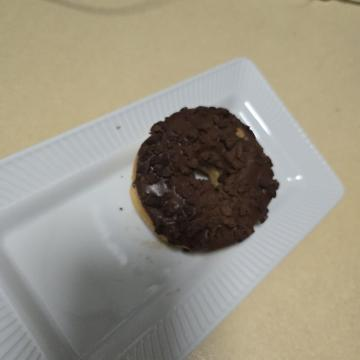doughnut: (89, 72, 266, 241)
